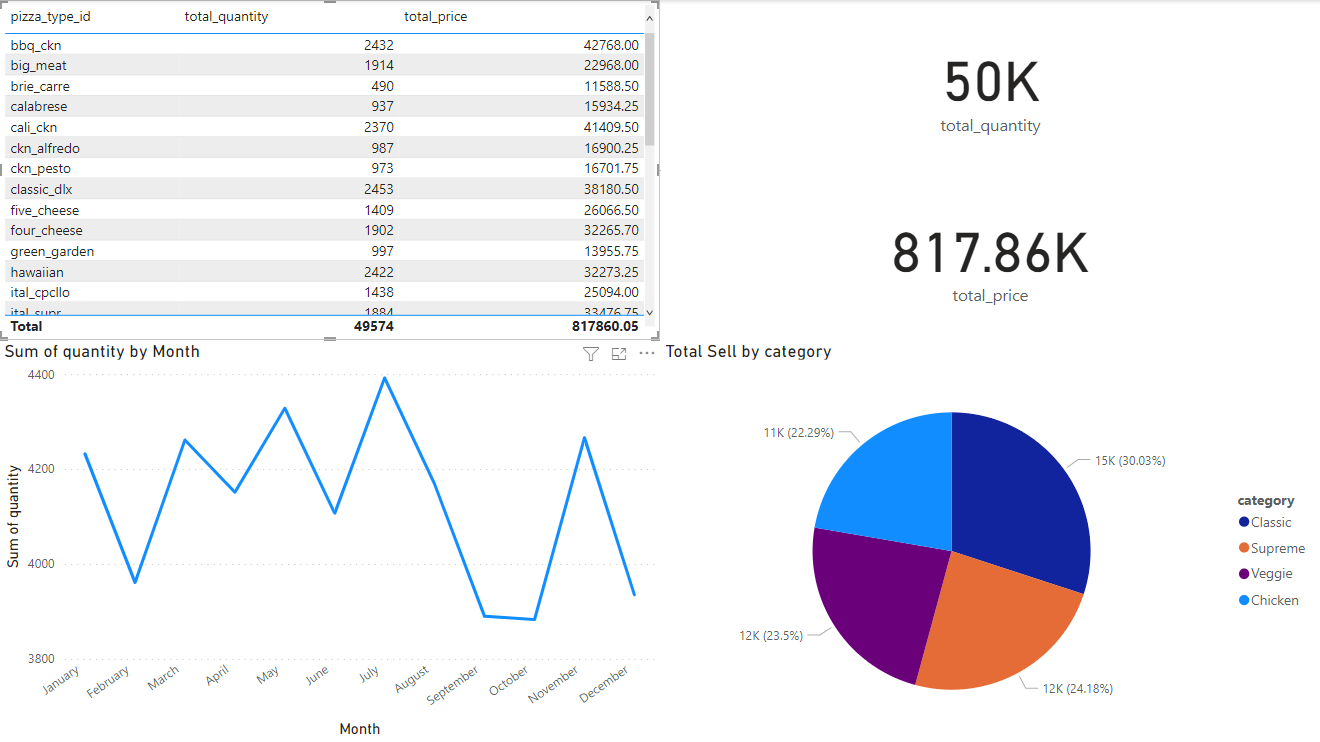

This screenshot's page, from the dashboard's own definition file:
{"tool":"powerbi","page":{"name":"Report_2015_pizza","canvas":[1280,720],"ordinal":2},"visuals":[{"type":"lineChart","fields":{"Y":["Sum(order_details.quantity)"],"Category":["orders.date.Variation.Date Hierarchy.Quarter","orders.date.Variation.Date Hierarchy.Month","orders.date.Variation.Date Hierarchy.Day"]},"box":[0,329.7,640,390],"z":0},{"type":"tableEx","fields":{"Values":["pizzas.pizza_type_id","order_details.total_quantity","pizzas.total_price"]},"box":[0,0,640,329.7],"z":1},{"type":"card","fields":{"Values":["order_details.total_quantity"]},"box":[640,0,640,165.3],"z":2},{"type":"card","fields":{"Values":["pizzas.total_price"]},"box":[640,165.3,640,164.4],"z":3},{"type":"pieChart","title":"Total Sell by category","fields":{"Category":["pizza_types.category"],"Y":["order_details.total_quantity"]},"box":[640.5,329.4,639.5,390.5],"z":5}]}

Visuals, with their boxes in screenshot pixels (x1, y1, x2, y2), scaled from the page's 1280x720 canvas onto the 1320x742 screenshot:
lineChart - Sum(order_details.quantity) x orders.date.Variation.Date Hierarchy.Quarter: x1=0, y1=340, x2=660, y2=741
tableEx - pizzas.pizza_type_id x order_details.total_quantity: x1=0, y1=0, x2=660, y2=340
card - order_details.total_quantity: x1=660, y1=0, x2=1319, y2=170
card - pizzas.total_price: x1=660, y1=170, x2=1319, y2=340
"Total Sell by category" pieChart: x1=661, y1=339, x2=1319, y2=741
